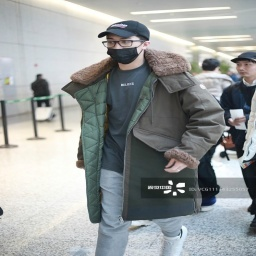correctlyWear: (97, 36, 147, 64)
noWear: (234, 60, 256, 77)
